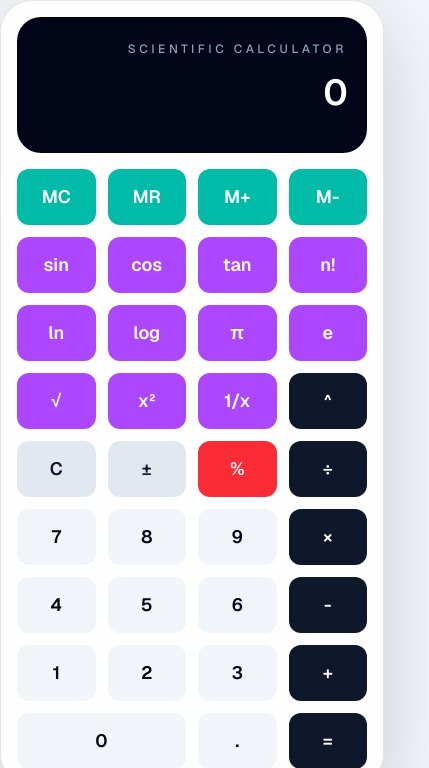
it: Calculator › enters error state on divide by zero and recovers with digit input
What coordinates should you click on to do the following:
click the button "8"
I would click on:
 (147, 537)
Its box is [108,509,186,565].
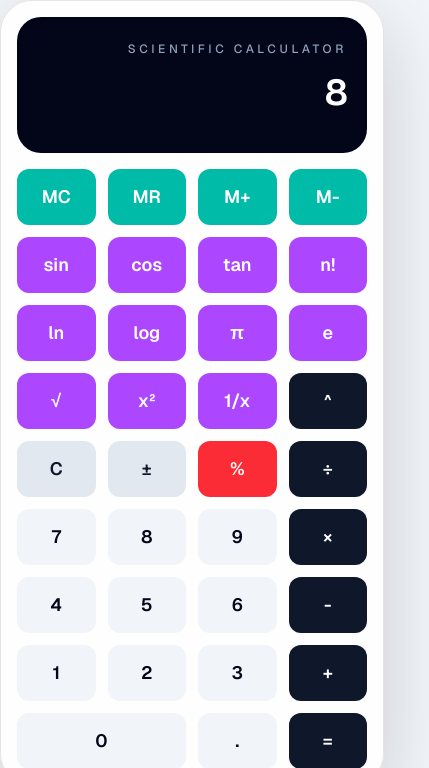
What coordinates should you click on to do the following:
click the button named "Divide"
I would click on:
 (328, 469)
Its box is [288,441,367,497].
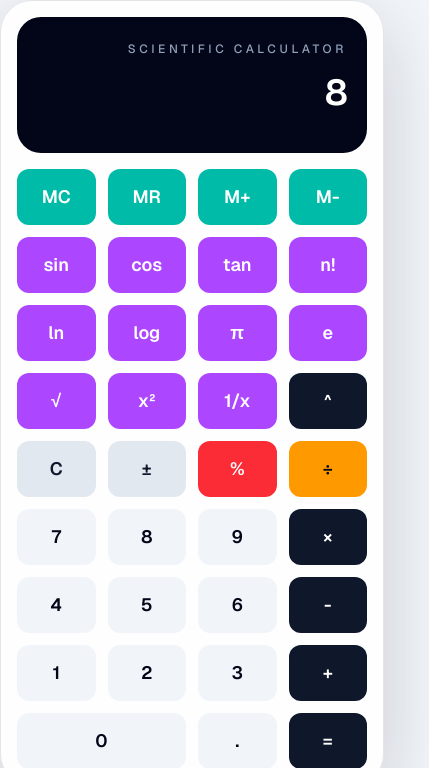
What coordinates should you click on to do the following:
click the button "0"
I would click on:
 (102, 741)
Its box is [17,713,186,767].
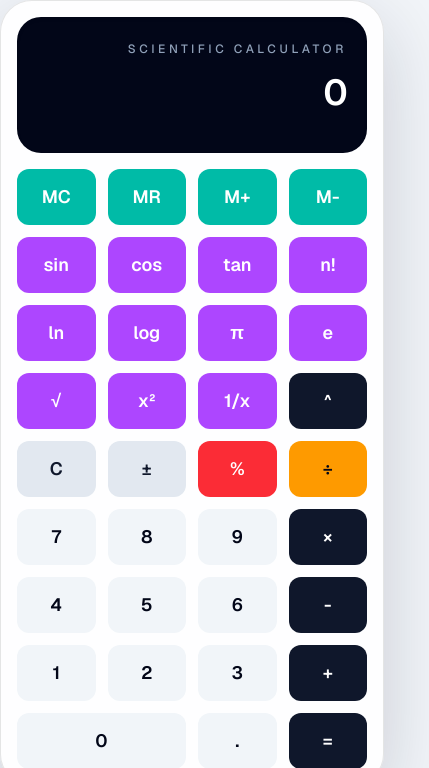
What coordinates should you click on to do the following:
click the button named "Equals"
I would click on:
 (328, 741)
Its box is [288,713,367,767].
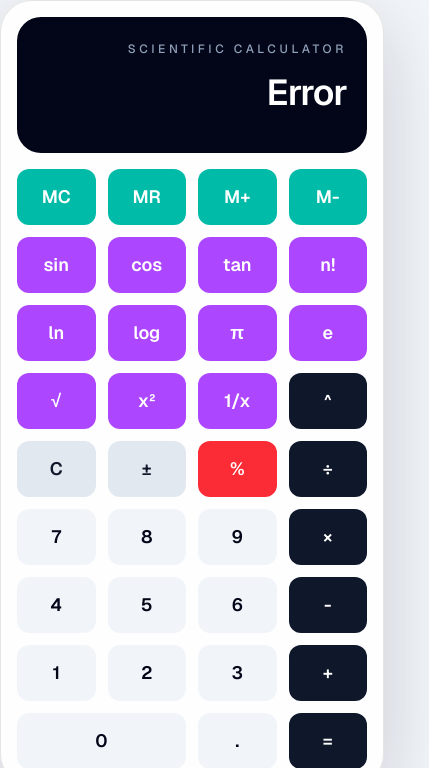
Check: the text "Error" is shown, box [266,69,347,116]
What coordinates should you click on to do the following:
click the button "7"
I would click on:
 (56, 537)
Its box is [17,509,96,565].
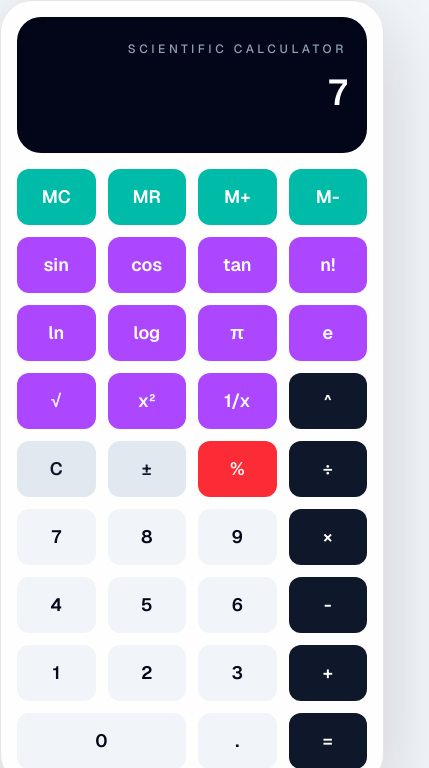
Check: the text "7" is shown, box [328,69,347,116]
